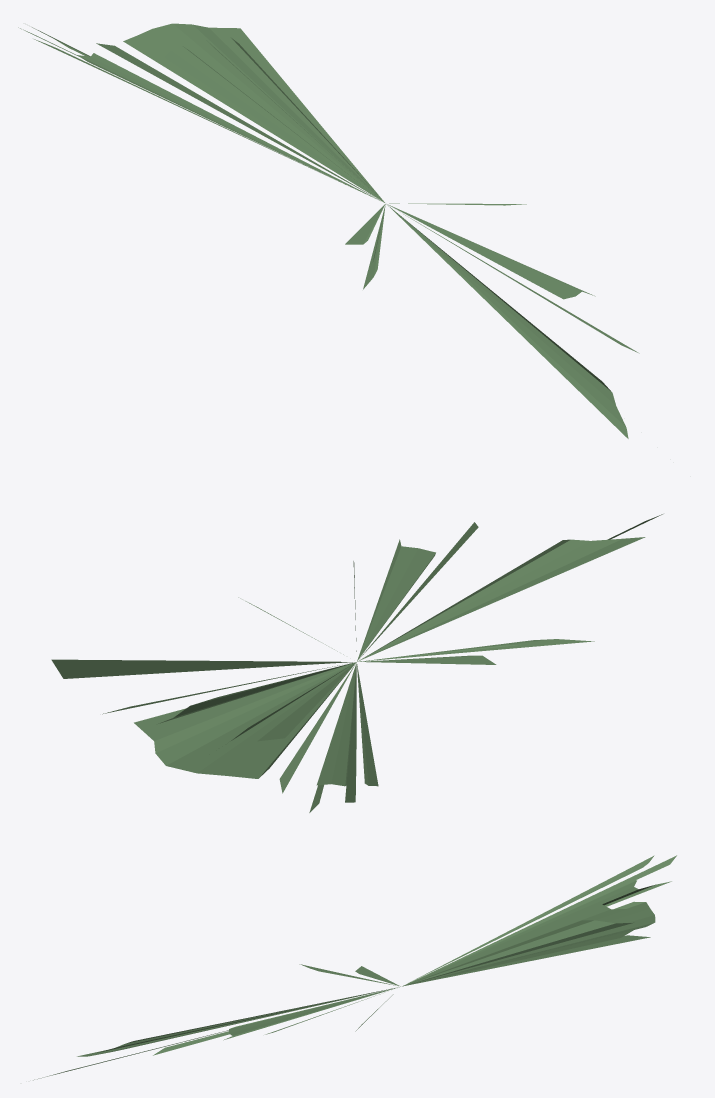
Rendered from c_1674_17820_forest.glb.
3 renders of one model, top to bottom at view 1: azimuth 30°, elevation 25°; view 2: azimuth 150°, elevation 25°; view 3: azimuth 270°, elevation 25°, orthographic. The views are drawn at different scales.
Parts seen in each view (by area): view 1: geometry_0; view 2: geometry_0; view 3: geometry_0.
Part boxes in pixels (box(x1,y1,x2,y2)): geometry_0: box(18, 23, 639, 438); geometry_0: box(51, 514, 662, 812); geometry_0: box(33, 855, 676, 1080).
Size of the model in its own units: 390 by 224 by 990.
